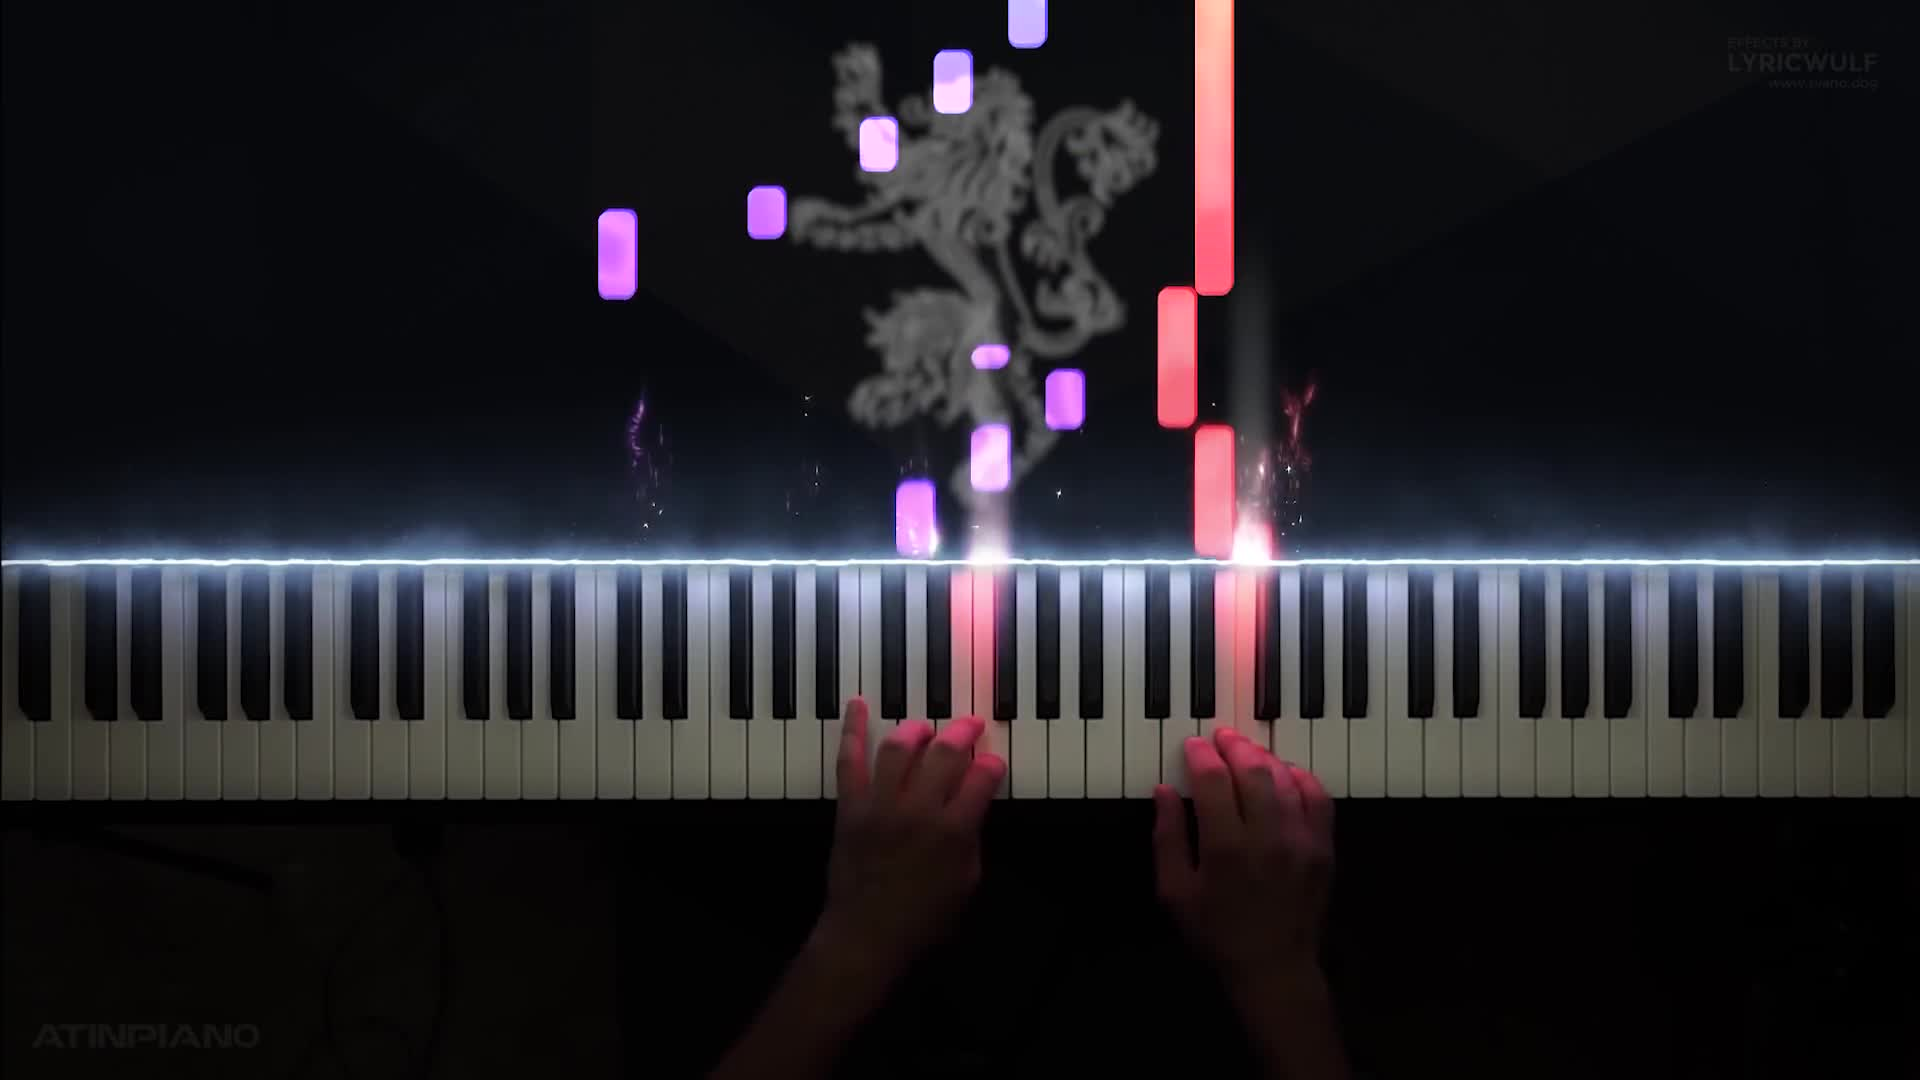left: (829, 690, 1007, 945)
right: (1149, 723, 1332, 975)
